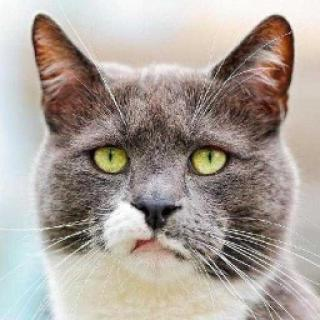cat: (27, 11, 302, 294)
nose: (127, 186, 195, 230)
